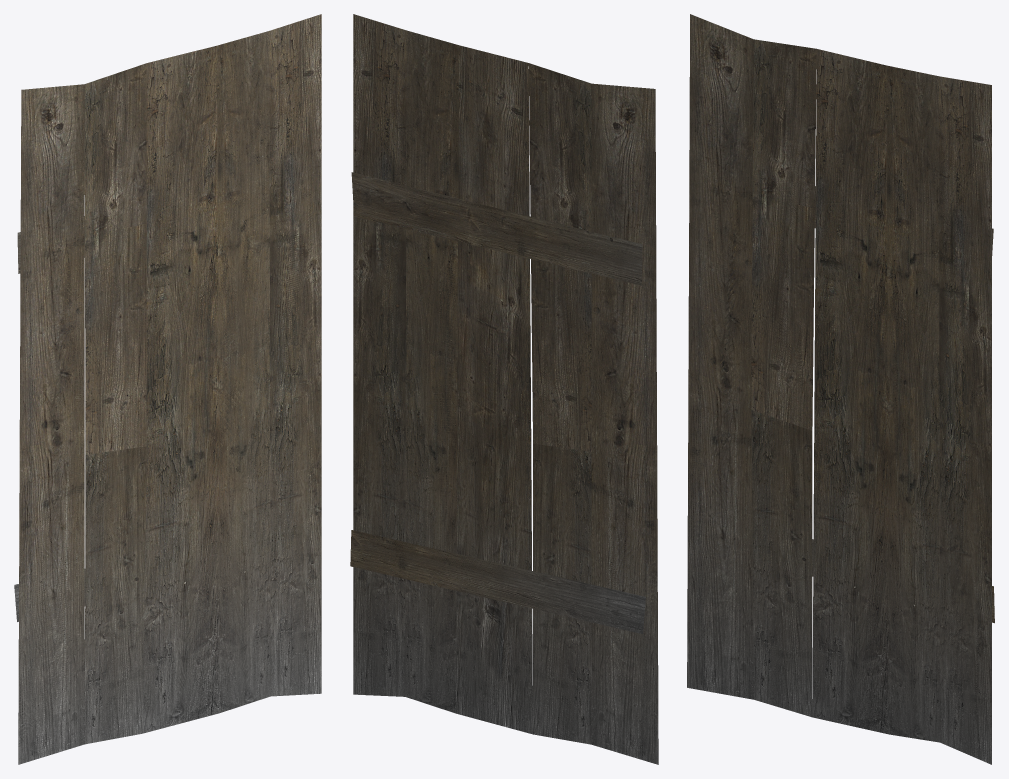
File: House_02_Doors4_LOD3.fbx
3 renders of one model, left to right at view 1: azimuth 30°, elevation 25°; view 2: azimuth 150°, elevation 25°; view 3: azimuth 330°, elevation 25°, orthographic.
Parts seen in each view (by area): view 1: polySurface1108; view 2: polySurface1108; view 3: polySurface1108.
Boxes of the visible parts, box(x1,y1,x2,y2) form: polySurface1108: box(14, 14, 321, 764); polySurface1108: box(350, 14, 658, 764); polySurface1108: box(687, 14, 994, 764).
Size of the model in its own units: 0.9133 by 1.95 by 0.0516.
